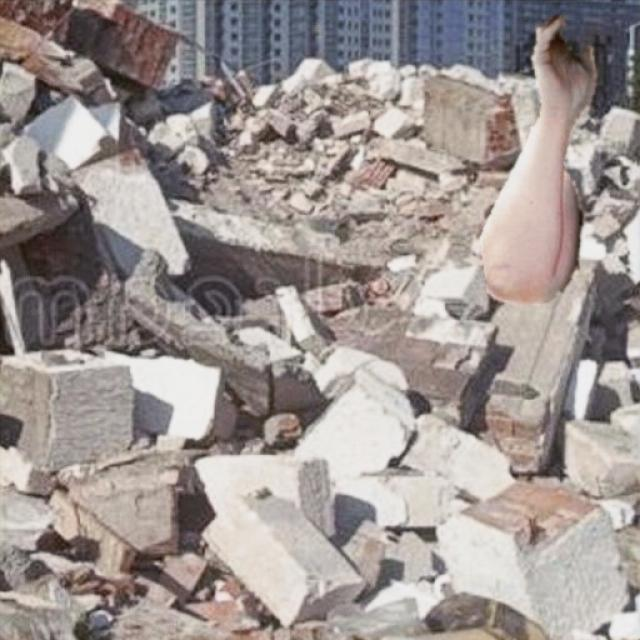Person in Rubble: (478, 16, 596, 302)
